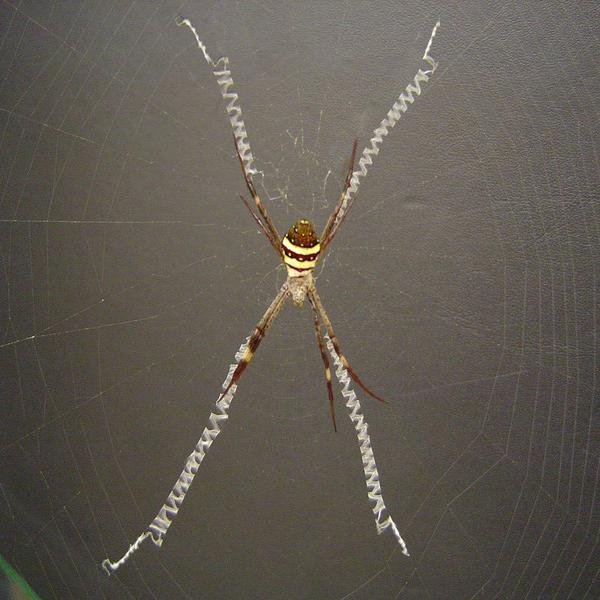St Andrew's Cross Spider: (222, 135, 391, 428)
